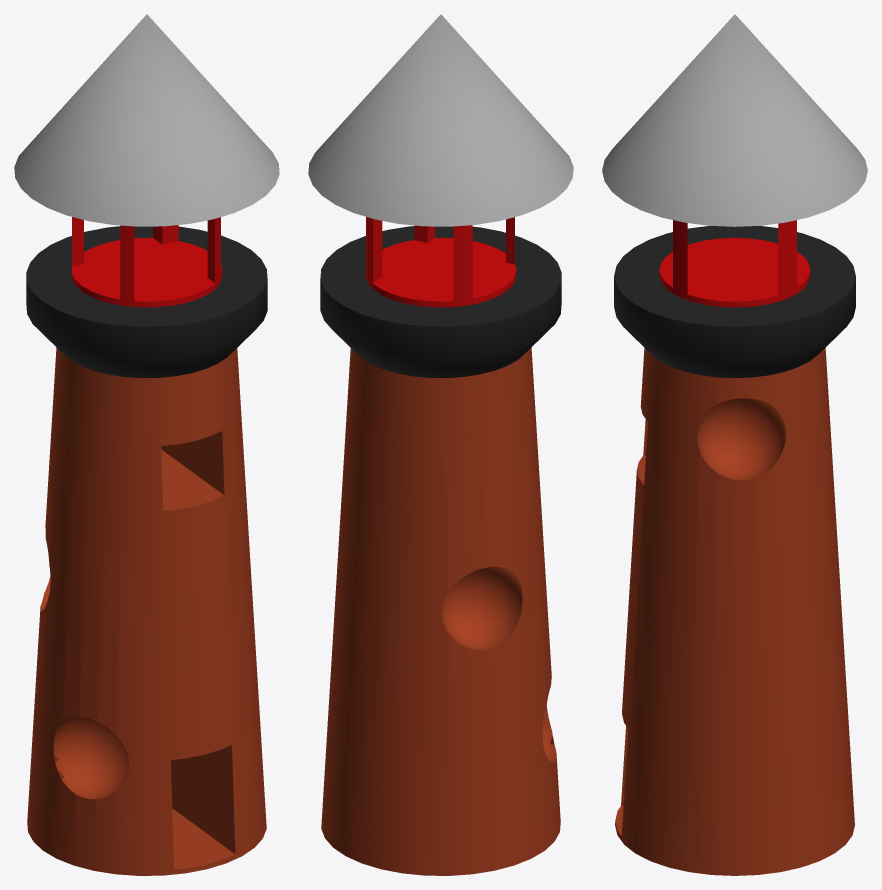
Rendered from krajobrazL.obj.
The picture shows the model from 3 angles, left to right: view 1: azimuth 30°, elevation 25°; view 2: azimuth 150°, elevation 25°; view 3: azimuth 270°, elevation 25°; orthographic projection.
Visible parts, largest first — view 1: Lighthouse_Circle.001; view 2: Lighthouse_Circle.001; view 3: Lighthouse_Circle.001.
Boxes of the visible parts, <box> form: Lighthouse_Circle.001: <box>14,14,279,875</box>; Lighthouse_Circle.001: <box>308,14,573,875</box>; Lighthouse_Circle.001: <box>602,14,867,875</box>.
Bounding box in the file's own units: 2.22 × 7.46 × 2.22.
